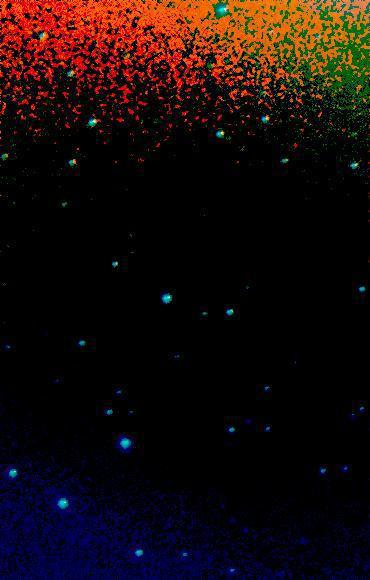star: (342, 69, 370, 99)
